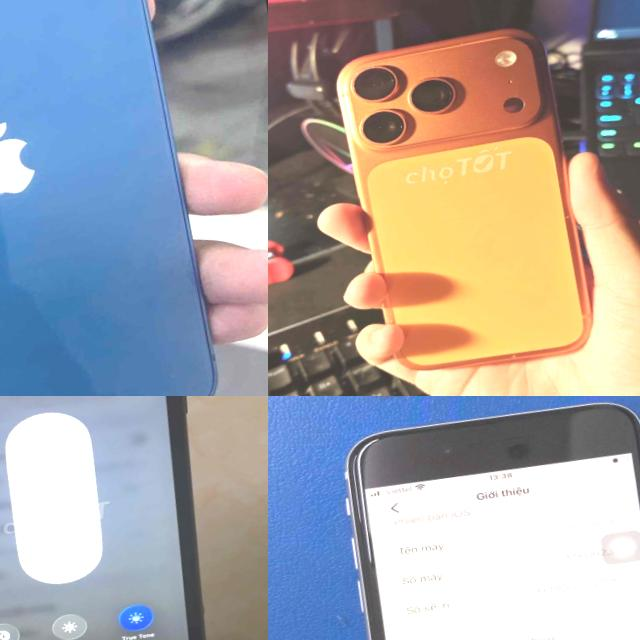gen_11: (0, 396, 203, 640)
gen_12_13: (0, 0, 224, 396)
gen_17: (313, 1, 620, 396)
gen_7_8: (347, 404, 640, 640)
